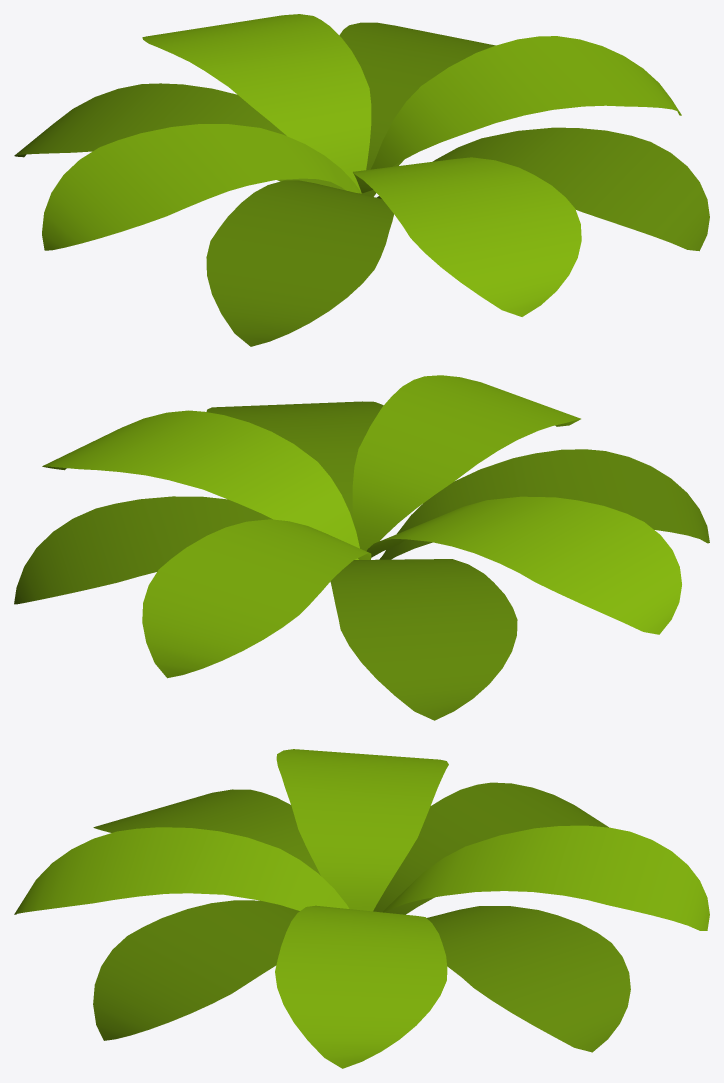
File: Plant2.fbx
The picture shows the model from 3 angles, top to bottom: view 1: azimuth 30°, elevation 25°; view 2: azimuth 150°, elevation 25°; view 3: azimuth 270°, elevation 25°; orthographic projection. The views are drawn at different scales.
Parts seen in each view (by area): view 1: Plant1; view 2: Plant1; view 3: Plant1.
Boxes of the visible parts, x1,y1,x2,y2 form: Plant1: [14, 14, 709, 346]; Plant1: [14, 375, 709, 720]; Plant1: [14, 749, 709, 1068].
Bounding box in the file's own units: 96.28 × 14.32 × 96.28.
